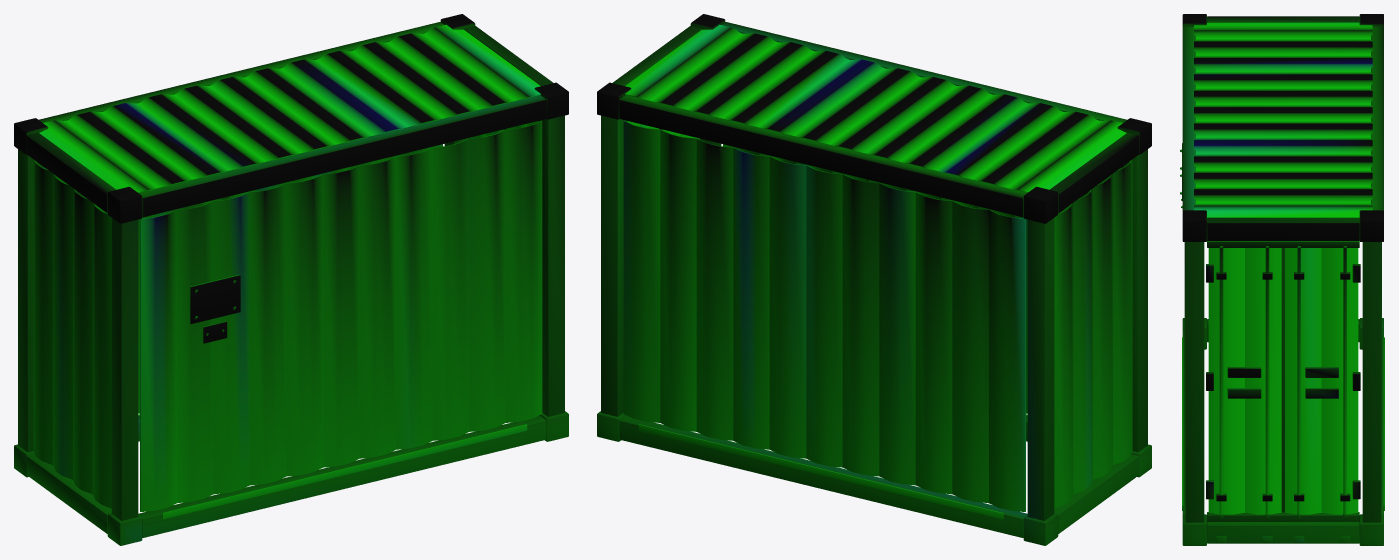
Rendered from container_a.glb.
The picture shows the model from 3 angles, left to right: view 1: azimuth 30°, elevation 25°; view 2: azimuth 150°, elevation 25°; view 3: azimuth 270°, elevation 25°; orthographic projection. The views are drawn at different scales.
Visible parts, largest first — view 1: ContainerA; view 2: ContainerA; view 3: ContainerA.
Boxes of the visible parts, x1=… form: ContainerA: x1=14, y1=14, x2=568, y2=545; ContainerA: x1=597, y1=14, x2=1151, y2=545; ContainerA: x1=1180, y1=14, x2=1384, y2=545.
Bounding box in the file's own units: 3.41 × 2.5 × 1.42.
